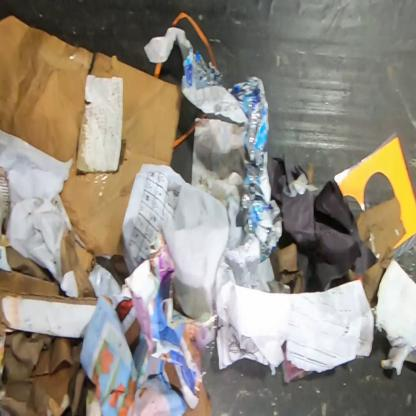cardboard: (0, 13, 185, 258), (333, 134, 416, 252), (0, 269, 98, 339), (346, 195, 406, 304), (28, 336, 93, 415), (270, 235, 306, 294), (169, 386, 213, 415), (124, 318, 140, 353), (165, 362, 182, 390)
soft_plastic: (144, 26, 284, 264), (270, 150, 378, 292), (179, 307, 220, 397), (89, 262, 133, 311), (0, 166, 12, 235)
